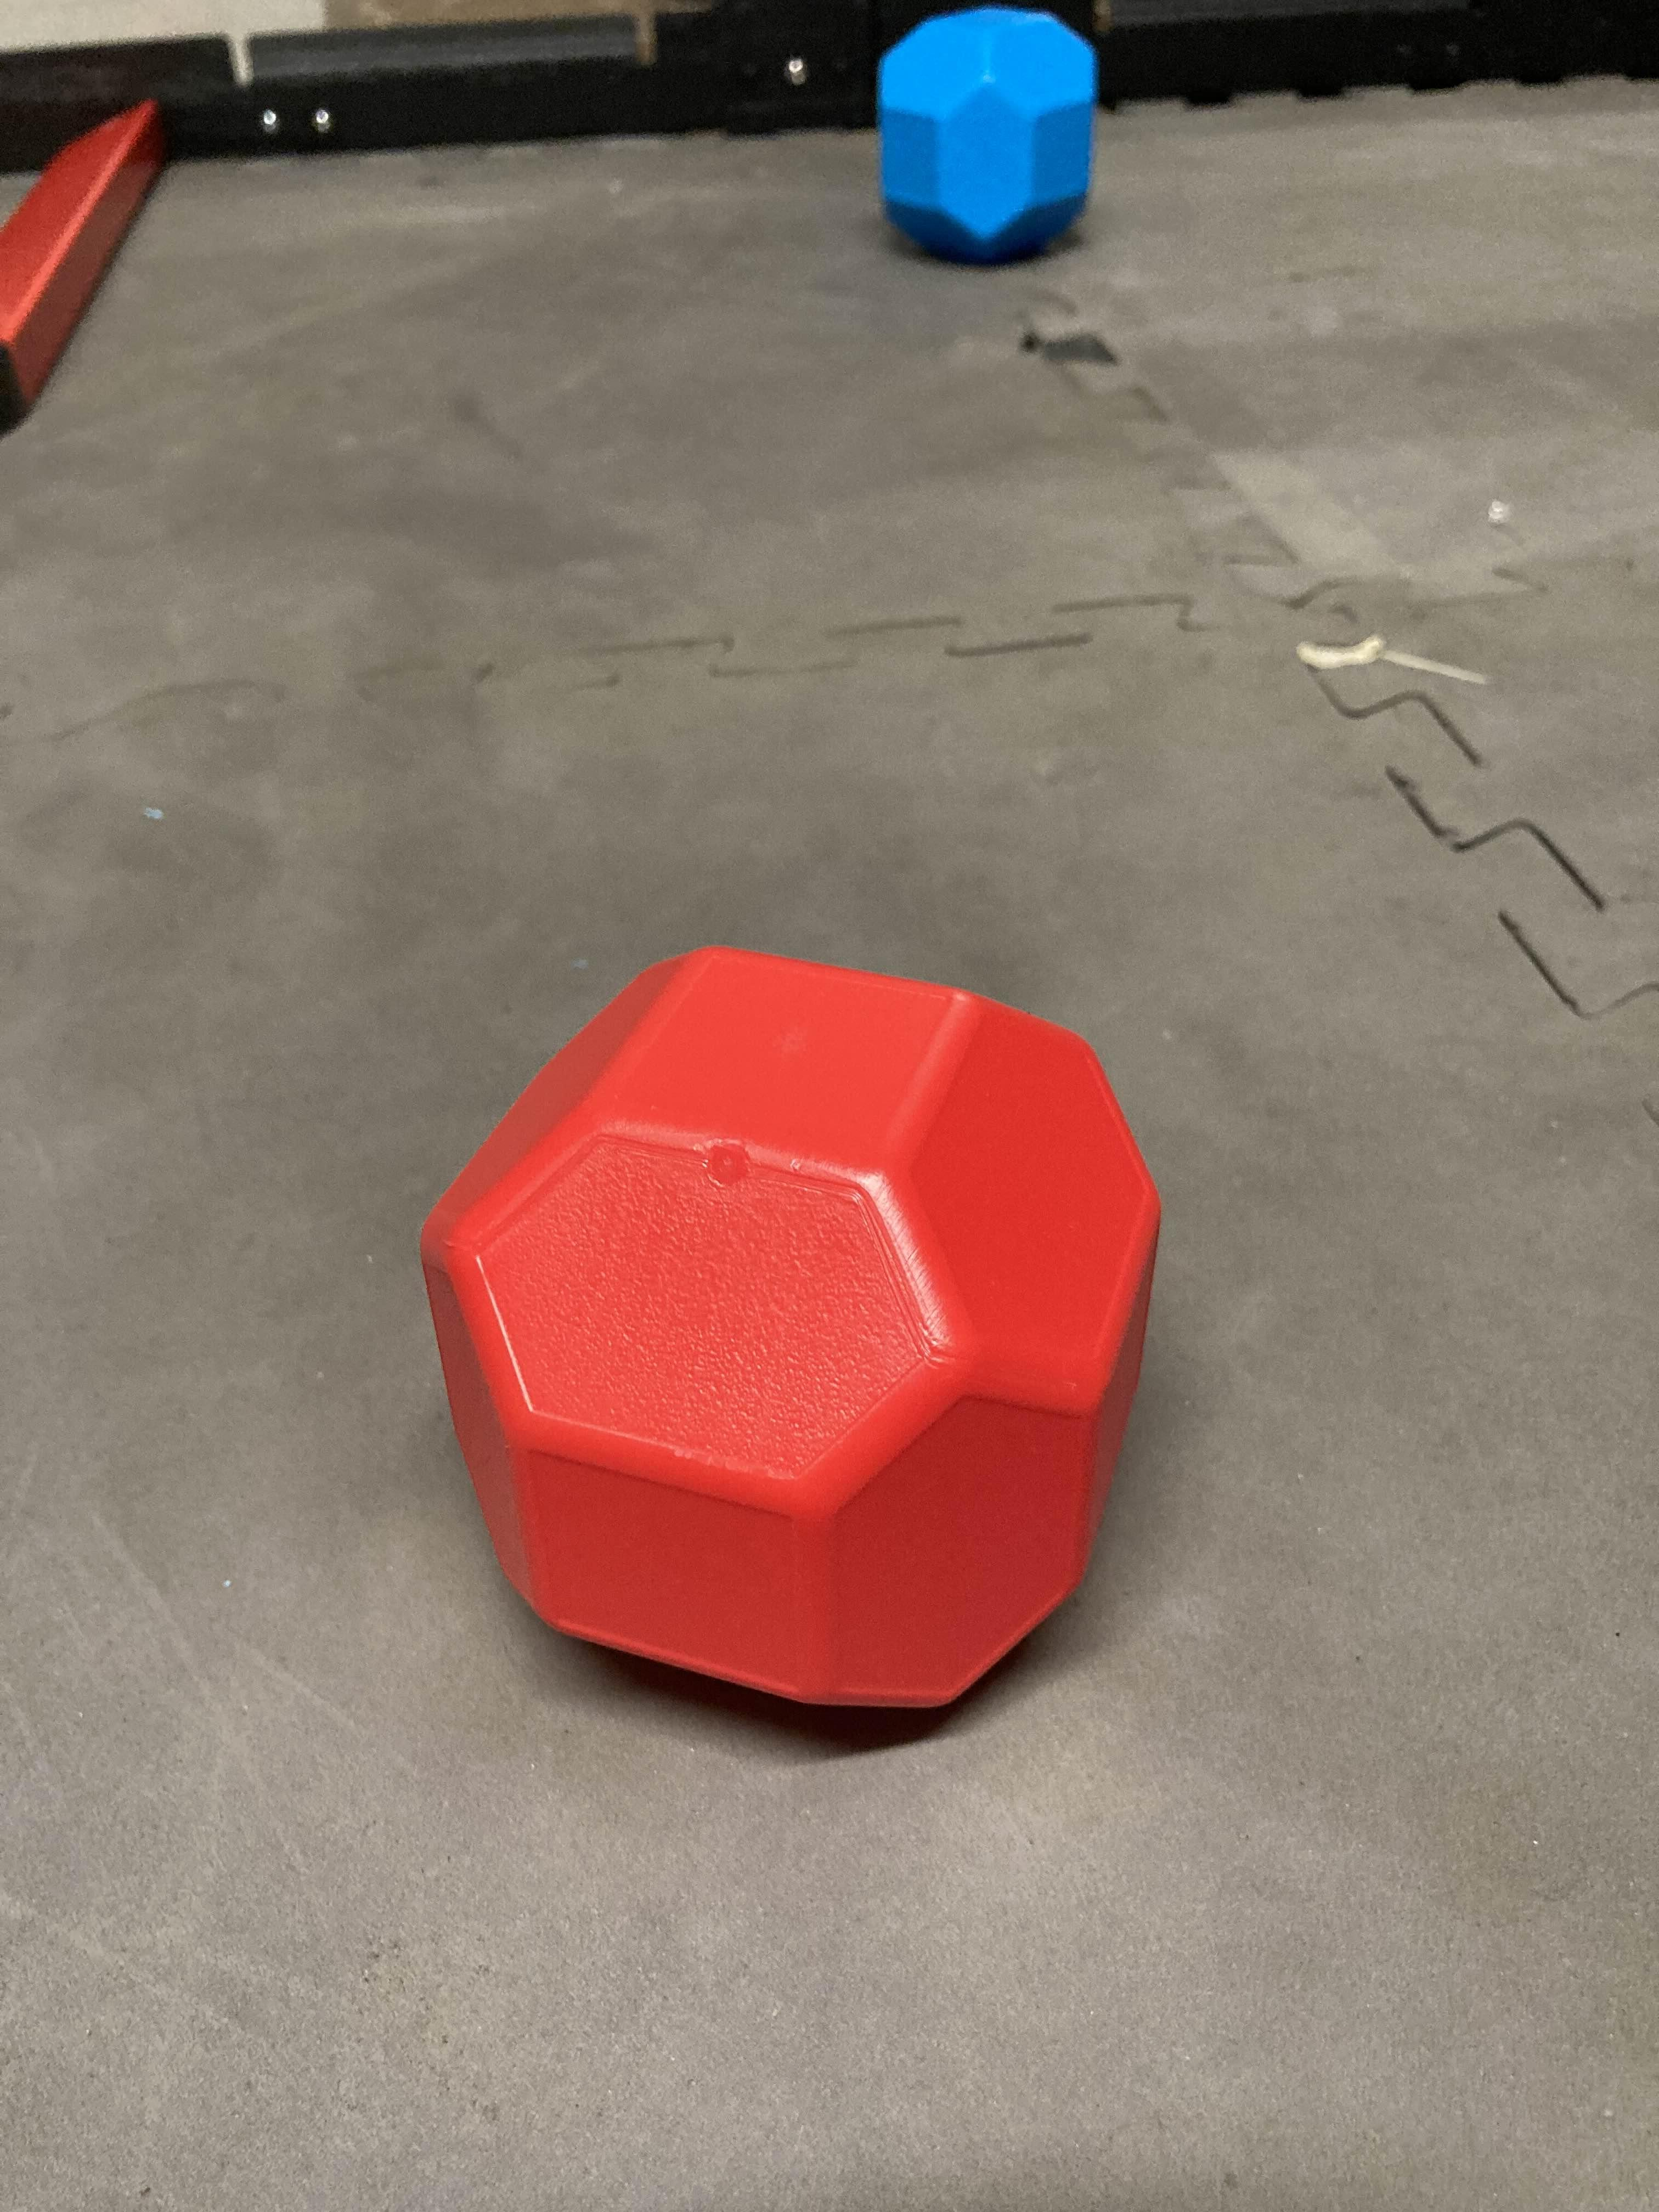Vex-Pieces-BLUE: (878, 7, 1098, 261)
Vex-Pieces-RED: (422, 949, 1159, 1705)
